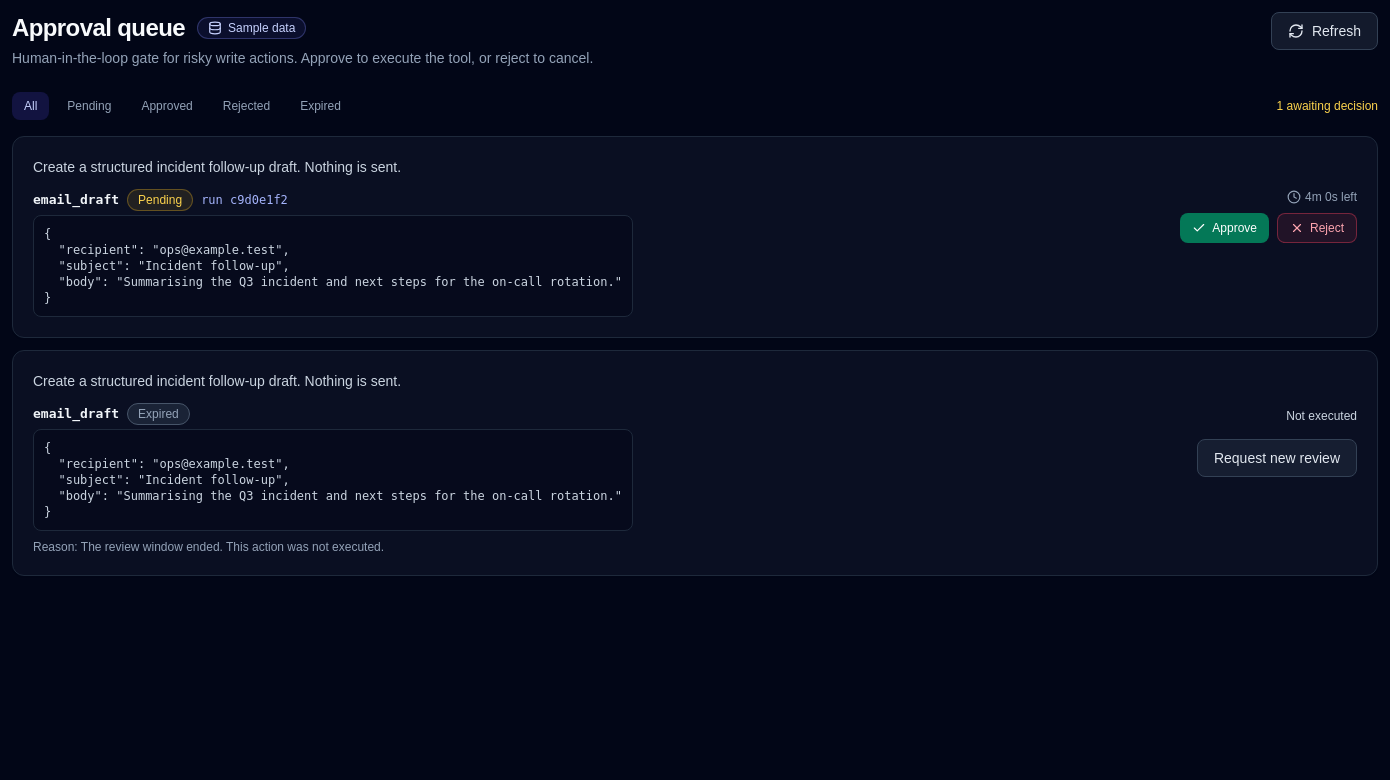
Test: ApprovalsView › approves a pending item and shows a not-persisted demo notice
The width and height of the screenshot is (1390, 780).
Expected: the element with test id "approval-list" is shown, 12,136 -> 1378,576
Step 1. Click the button "Approve" → point(1225, 228), box 1180,213 -> 1269,243
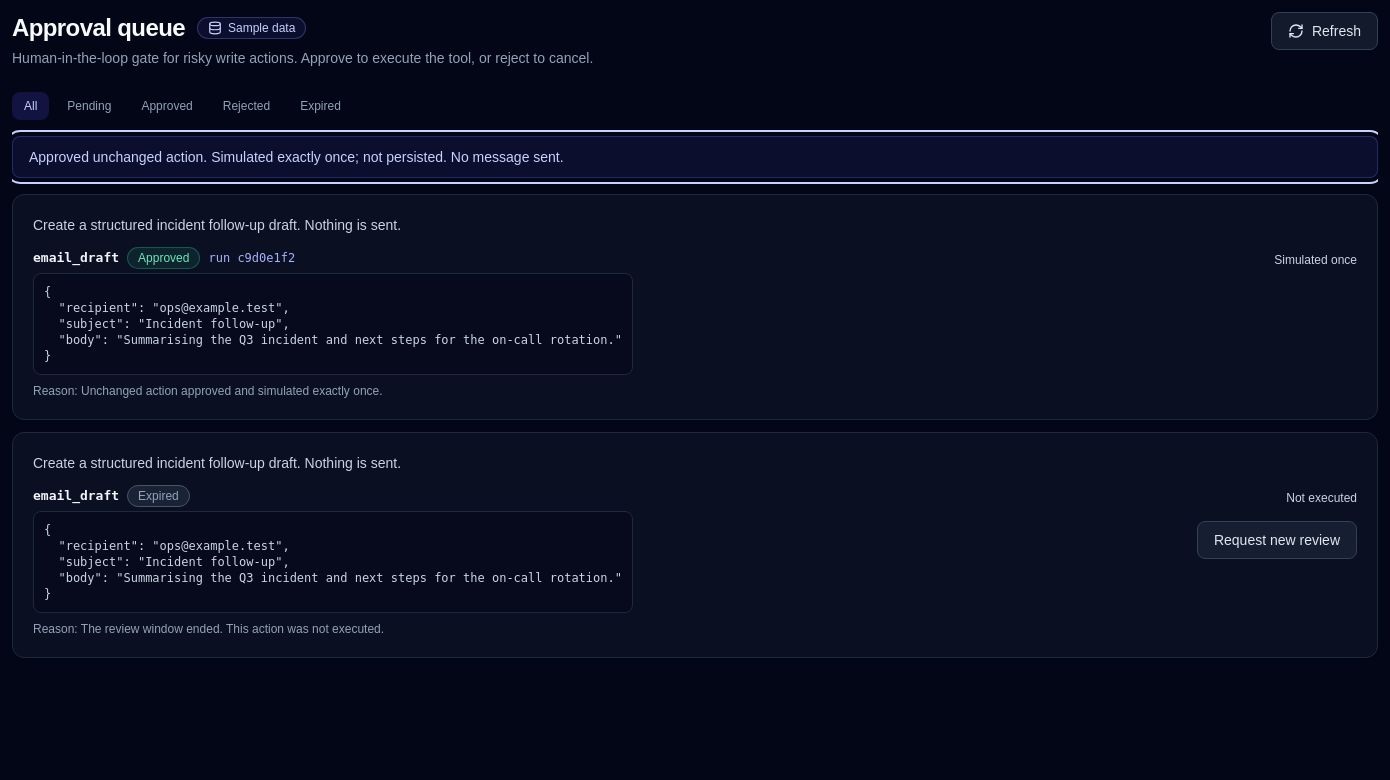
Expected: the text "not persisted" is shown, 29,149 -> 564,165
